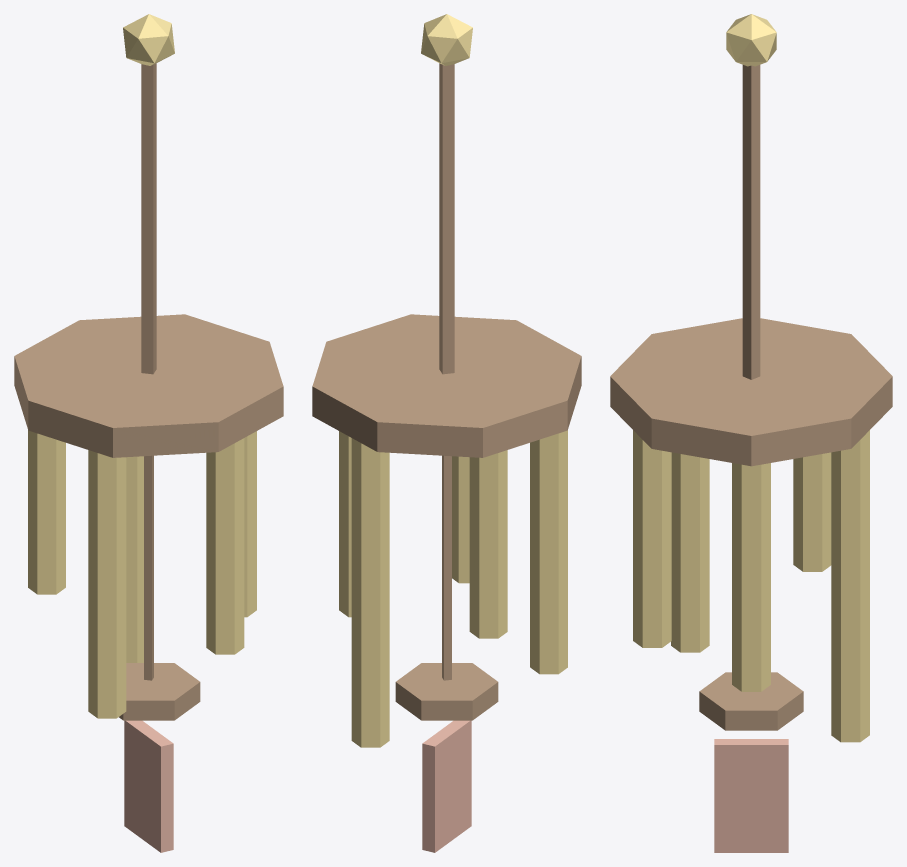
Rendered from Home_Chime.fbx.
The picture shows the model from 3 angles, left to right: view 1: azimuth 30°, elevation 25°; view 2: azimuth 150°, elevation 25°; view 3: azimuth 270°, elevation 25°; orthographic projection.
Visible parts, largest first — view 1: TopPlate, Tube3, Tube4, Tube2, Sail, String, ClapperDisc, Tube1, Tube0, Clapper, Hook; view 2: TopPlate, Tube1, Tube3, Tube2, Sail, String, ClapperDisc, Tube0, Tube4, Clapper, Hook; view 3: TopPlate, Tube1, Tube0, Sail, Tube4, Tube3, String, Tube2, ClapperDisc, Hook.
Part boxes in pixels (x1,y1,x2,y2): TopPlate: (14,314,283,457); Tube3: (88,450,126,718); Tube4: (206,438,244,654); Tube2: (28,430,65,594); Sail: (124,720,173,852); String: (141,63,156,374); ClapperDisc: (119,663,200,720); Tube1: (126,456,143,662); Tube0: (244,431,256,617); Clapper: (144,455,153,680); Hook: (123,14,174,65); TopPlate: (312,314,581,457); Tube1: (351,438,389,747); Tube3: (530,430,567,674); Tube2: (469,450,507,638); Sail: (422,720,471,852); String: (439,63,454,374); ClapperDisc: (395,663,498,720); Tube0: (339,431,351,617); Tube4: (452,456,469,583); Clapper: (442,455,451,680); Hook: (421,14,472,65); TopPlate: (610,318,892,466); Tube1: (831,430,869,742); Tube0: (732,463,770,691); Sail: (714,739,788,852); Tube4: (633,430,671,647); Tube3: (671,452,709,652); String: (742,65,760,379); Tube2: (793,452,831,571); ClapperDisc: (699,672,803,730); Hook: (726,14,776,66).
Bounding box in the file's own units: 0.38 × 1.24 × 0.38.
